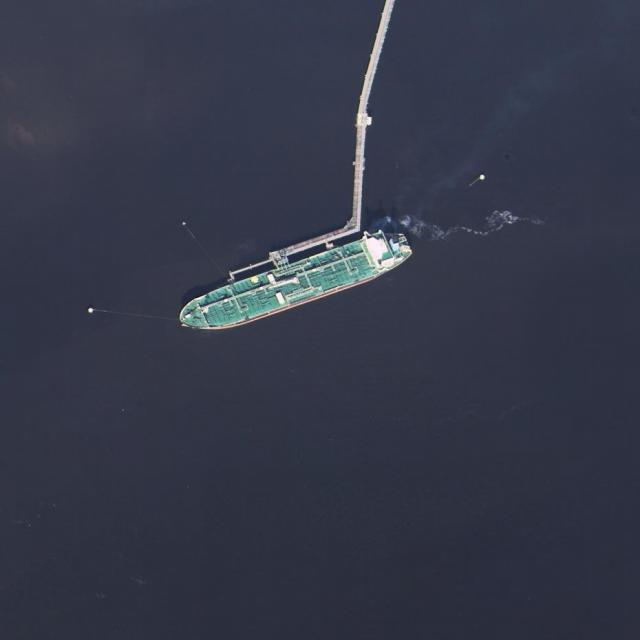Dock: (223, 222, 363, 281)
Oil Tanker: (168, 222, 420, 342)
